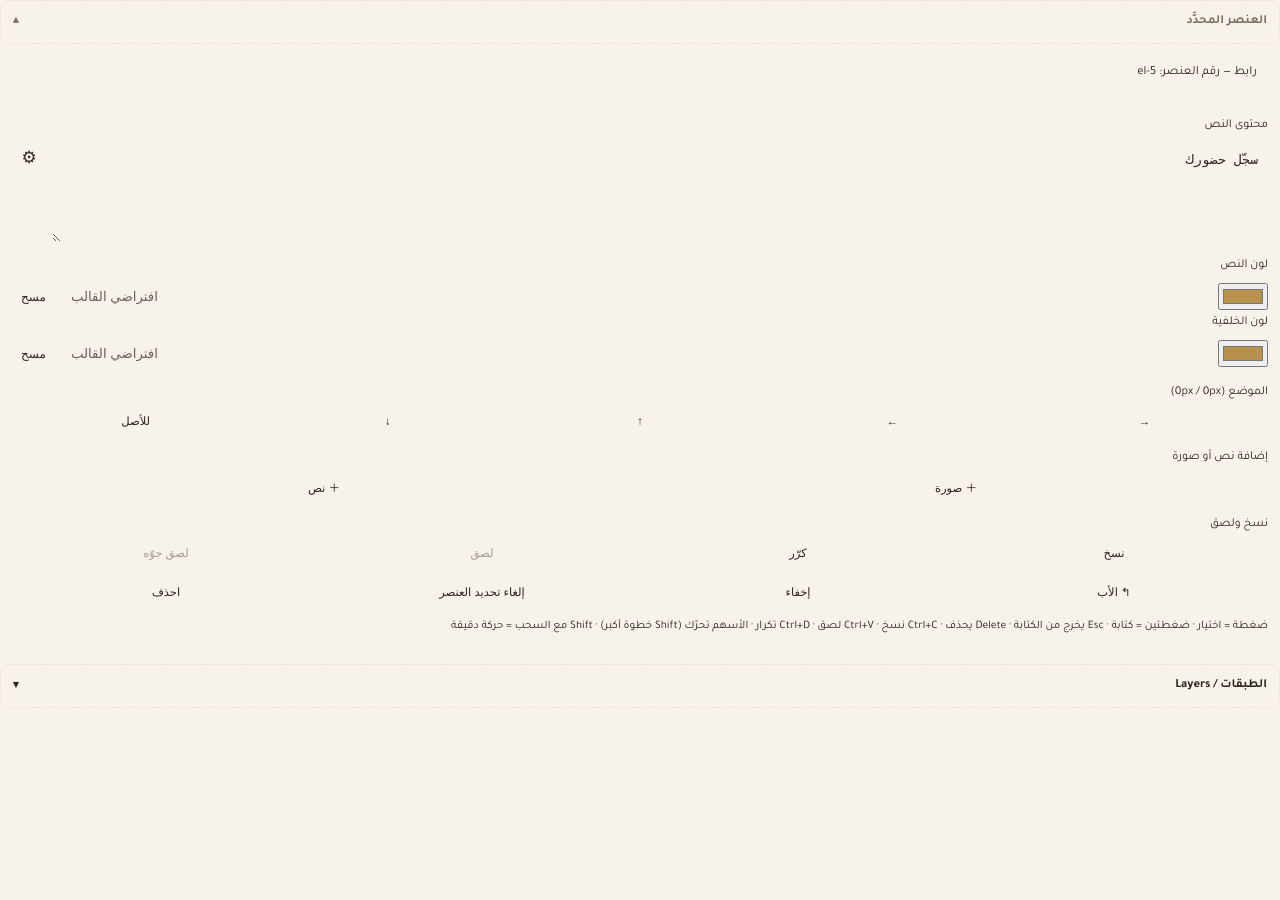
Scenario: ElementPanel actions › refuses structure edits in the translated preview and tells the user
Click the button "احذف" at x=166, y=592, box [12,579,320,605]
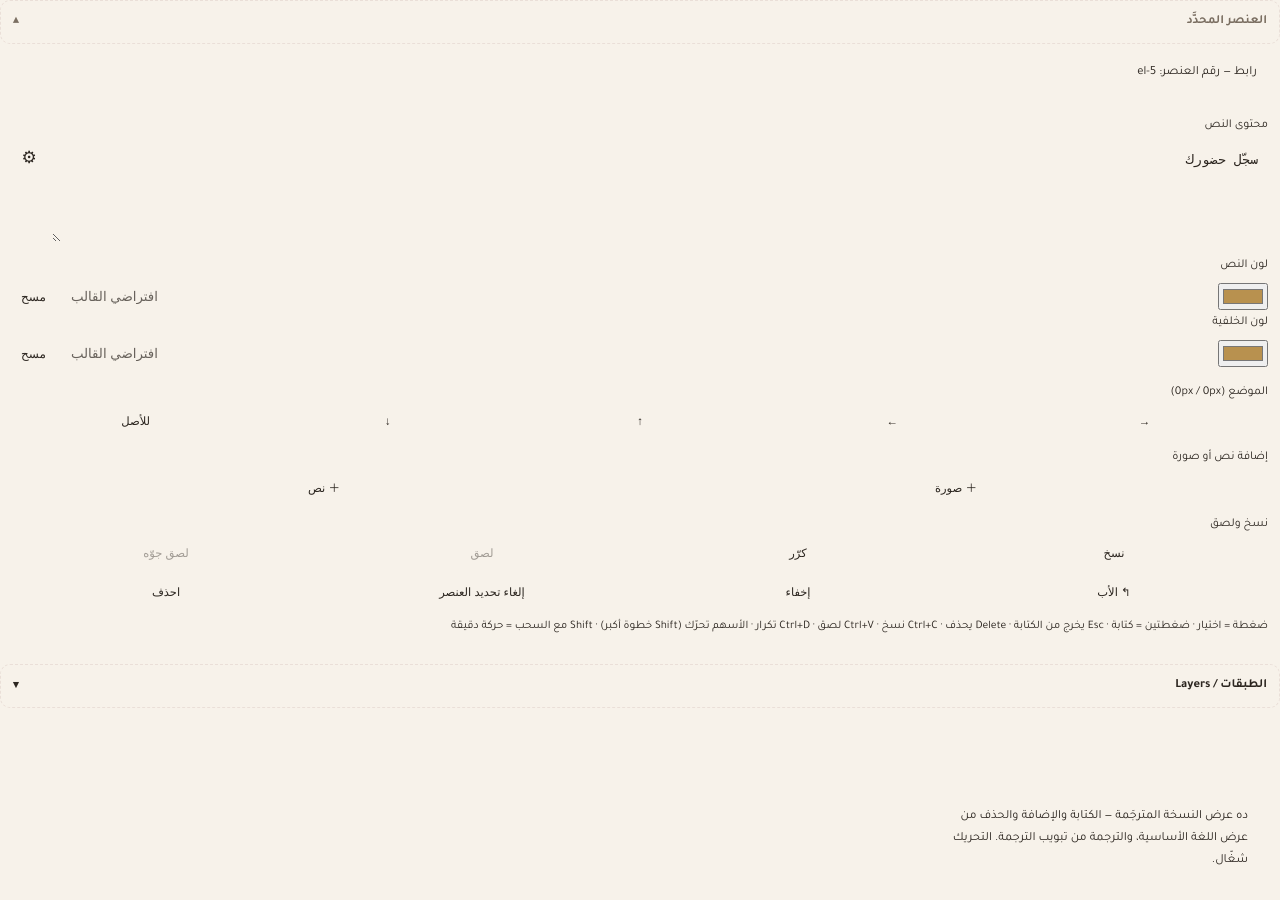
Check: the text "النسخة المترجَمة" is shown, box [953,810,1248,866]
